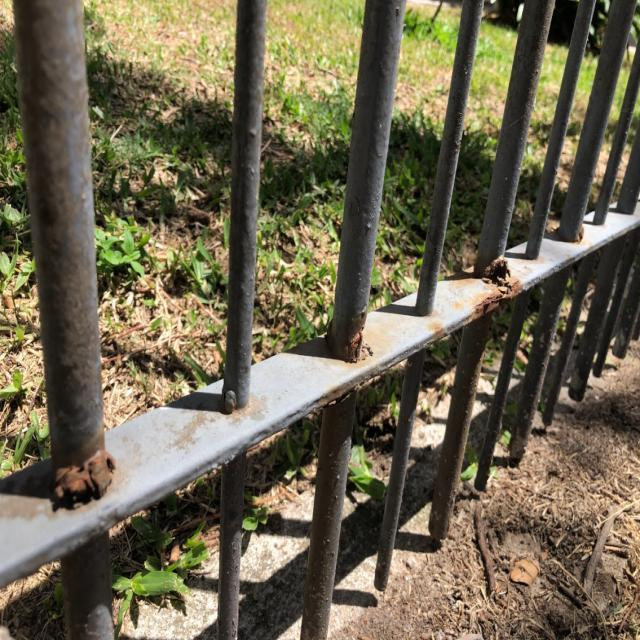Corrosion: (42, 437, 119, 510), (468, 249, 528, 325), (335, 311, 379, 363)
